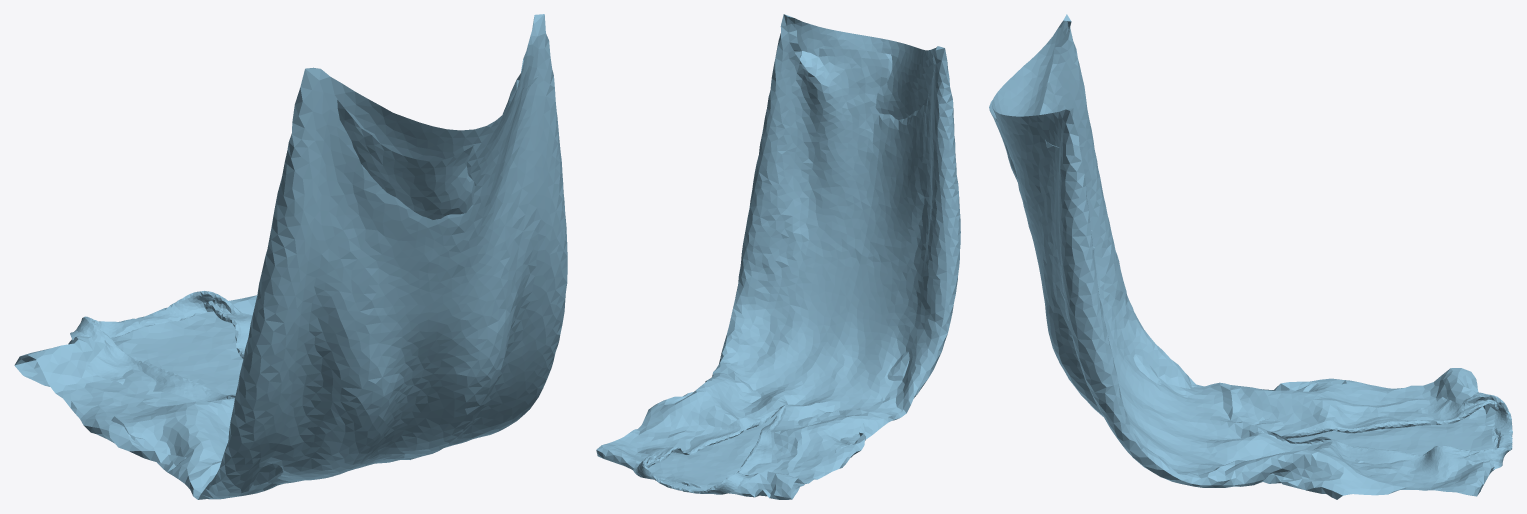
File: frame_09.glb
3 renders of one model, left to right at view 1: azimuth 30°, elevation 25°; view 2: azimuth 150°, elevation 25°; view 3: azimuth 270°, elevation 25°, orthographic. The views are drawn at different scales.
Parts seen in each view (by area): view 1: frame_09.obj; view 2: frame_09.obj; view 3: frame_09.obj.
Boxes of the visible parts, x1,y1,x2,y2 form: frame_09.obj: (14, 14, 567, 499); frame_09.obj: (596, 14, 960, 499); frame_09.obj: (989, 14, 1512, 499).
Bounding box in the file's own units: 0.6352 × 0.9363 × 1.15.
